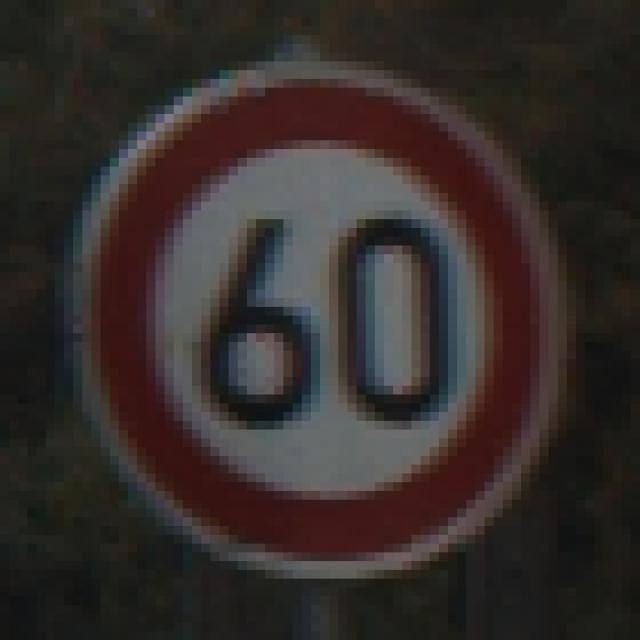Ograniczenie predkosci do 60: (81, 71, 548, 572)
